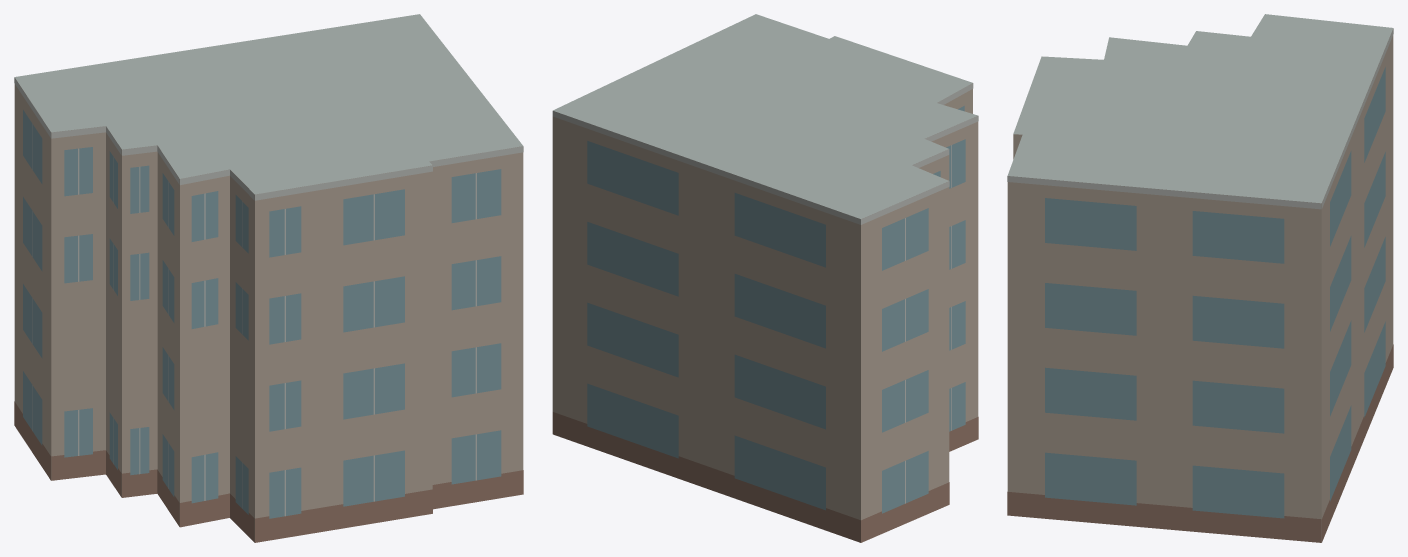
File: survey-upis-32676032.glb
3 views of the same model, side by side, from view 1: azimuth 30°, elevation 25°; view 2: azimuth 150°, elevation 25°; view 3: azimuth 270°, elevation 25° (orthographic). The views are drawn at different scales.
Parts seen in each view (by area): view 1: survey-upis-32676032.tmp; view 2: survey-upis-32676032.tmp; view 3: survey-upis-32676032.tmp.
Part boxes in pixels (bbox=[...]): survey-upis-32676032.tmp: bbox=[14, 14, 523, 542]; survey-upis-32676032.tmp: bbox=[552, 14, 978, 542]; survey-upis-32676032.tmp: bbox=[1007, 14, 1393, 542].
Bounding box in the file's own units: 16.27 × 13.6 × 14.02.
